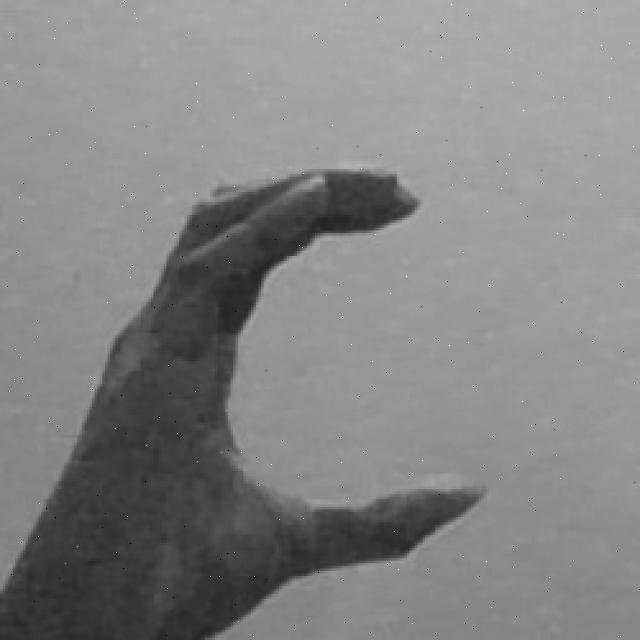C: (6, 168, 485, 640)
